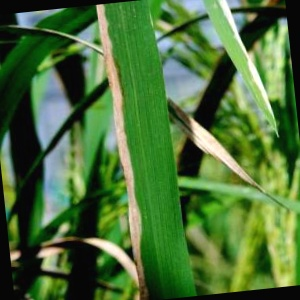Leaf_Blast: (117, 1, 175, 300), (238, 33, 276, 138)
